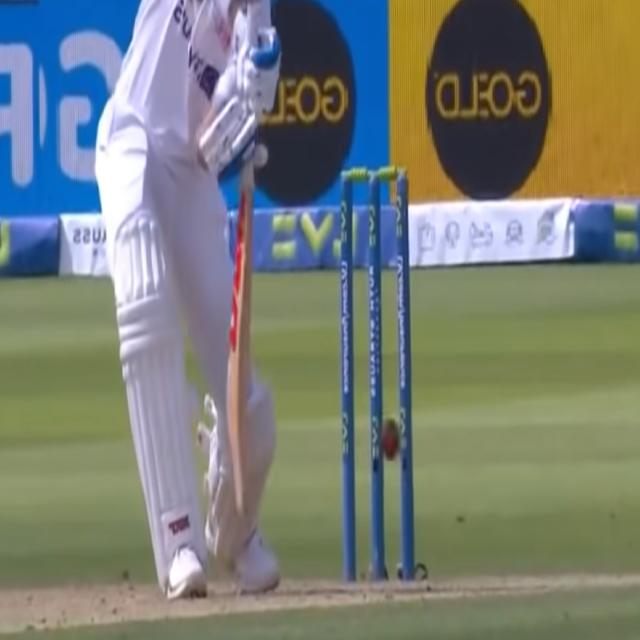ball: (377, 419, 402, 467)
